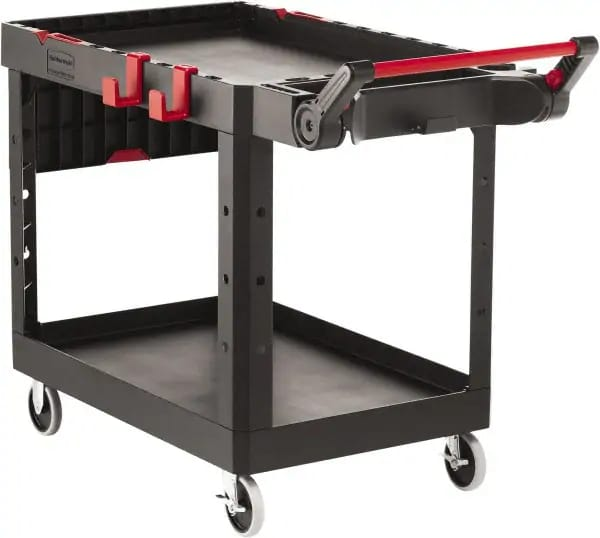Carts: (3, 4, 599, 537)
